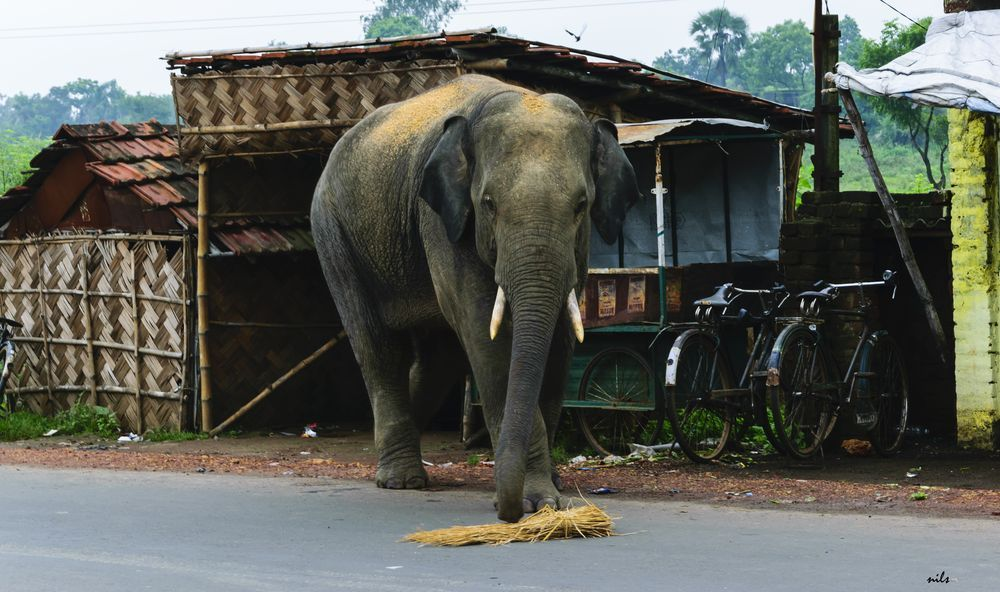Indian Elephant: (294, 76, 697, 517)
